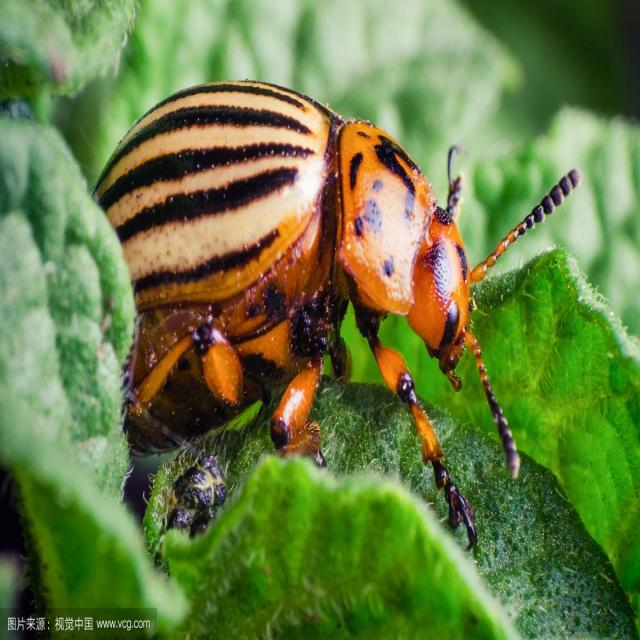ShuCaiHuaBanChong-Grown-: (76, 74, 543, 489)
